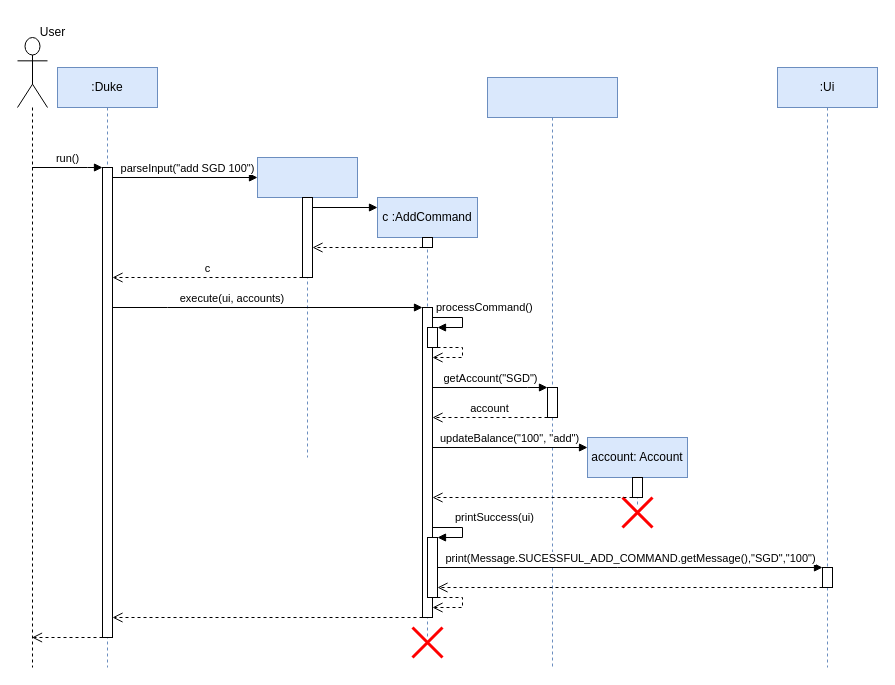
The diagram is 895 pixels wide and 685 high, and some of its shapes have lost their labels. Here are the shapes that lost their labels. From the top down, the centre of each, then its label:
At (x=307, y=307): "<<class>> Parser".
At (x=552, y=372): "accounts: AccountList".
